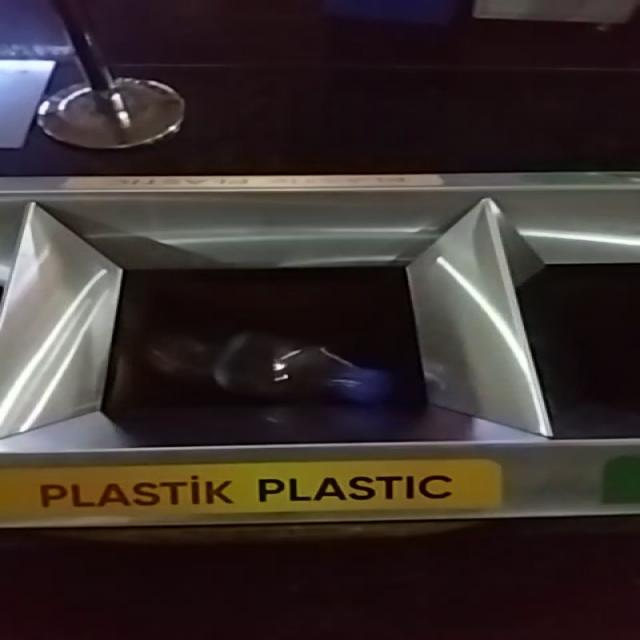plastic: (145, 331, 392, 404)
